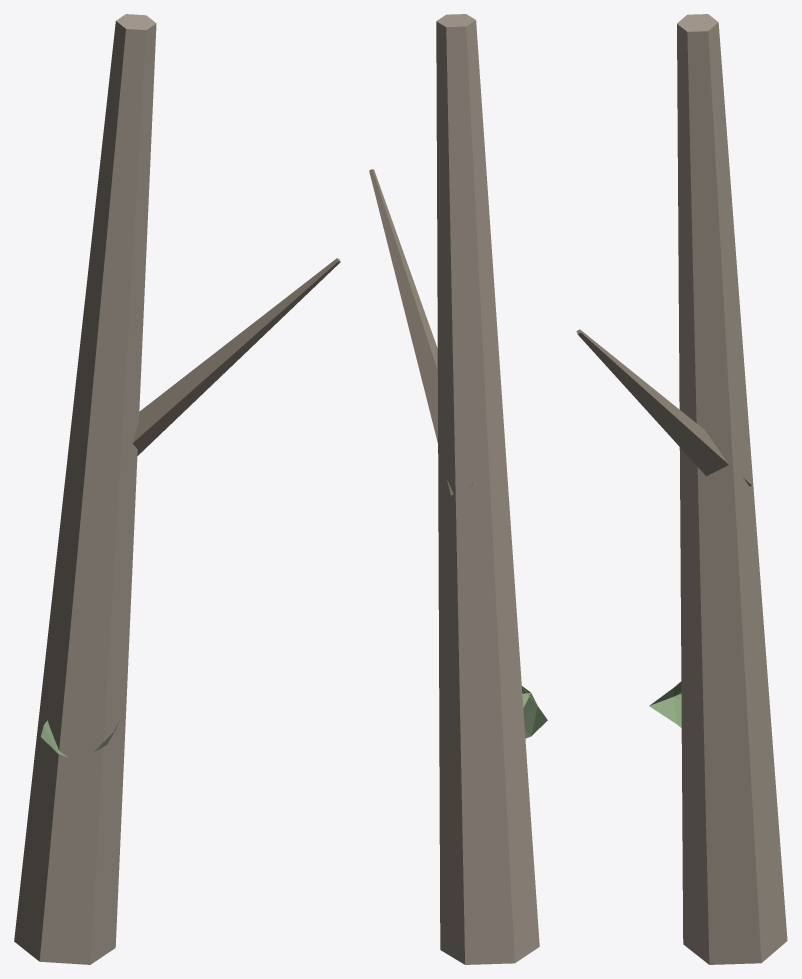
File: snag_v31.glb
3 views of the same model, side by side, from view 1: azimuth 30°, elevation 25°; view 2: azimuth 150°, elevation 25°; view 3: azimuth 270°, elevation 25° (orthographic). The views are drawn at different scales.
Visible parts, largest first — view 1: lod0; view 2: lod0; view 3: lod0.
Part boxes in pixels (<box>): lod0: <box>14,14,340,964</box>; lod0: <box>369,14,547,964</box>; lod0: <box>576,14,787,964</box>.
Size of what is drawn, in the model's own units: 0.7915 by 2.91 by 0.5863.
